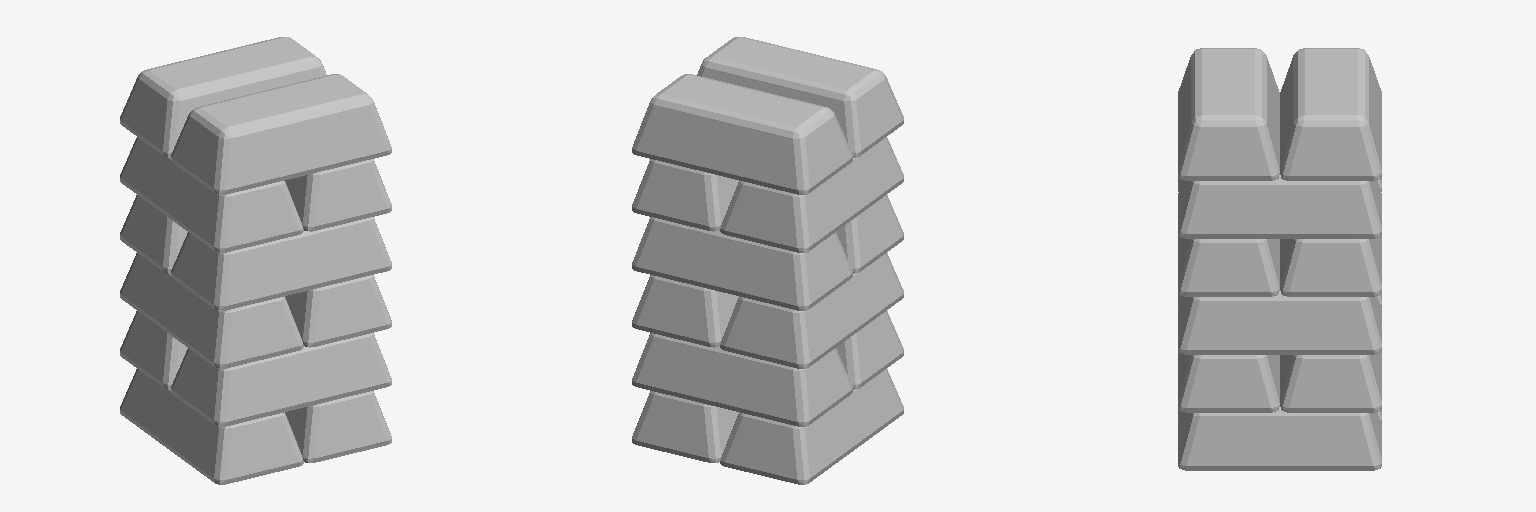
File: Silver_Bars_Stack_Medium.obj
The picture shows the model from 3 angles: view 1: azimuth 30°, elevation 25°; view 2: azimuth 150°, elevation 25°; view 3: azimuth 270°, elevation 25°; orthographic projection.
Visible parts, largest first — view 1: Silver_Bars_Stack_Medium; view 2: Silver_Bars_Stack_Medium; view 3: Silver_Bars_Stack_Medium.
Part boxes in pixels (left/top/right/bottom): Silver_Bars_Stack_Medium: left=120, top=37, right=391, bottom=484; Silver_Bars_Stack_Medium: left=632, top=37, right=903, bottom=484; Silver_Bars_Stack_Medium: left=1178, top=48, right=1381, bottom=470.
Bounding box in the file's own units: 0.8 × 1.5 × 0.8.